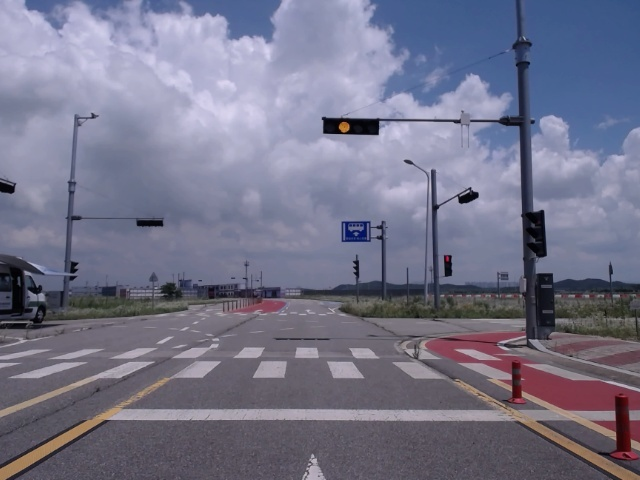orange_4: (321, 118, 379, 135)
